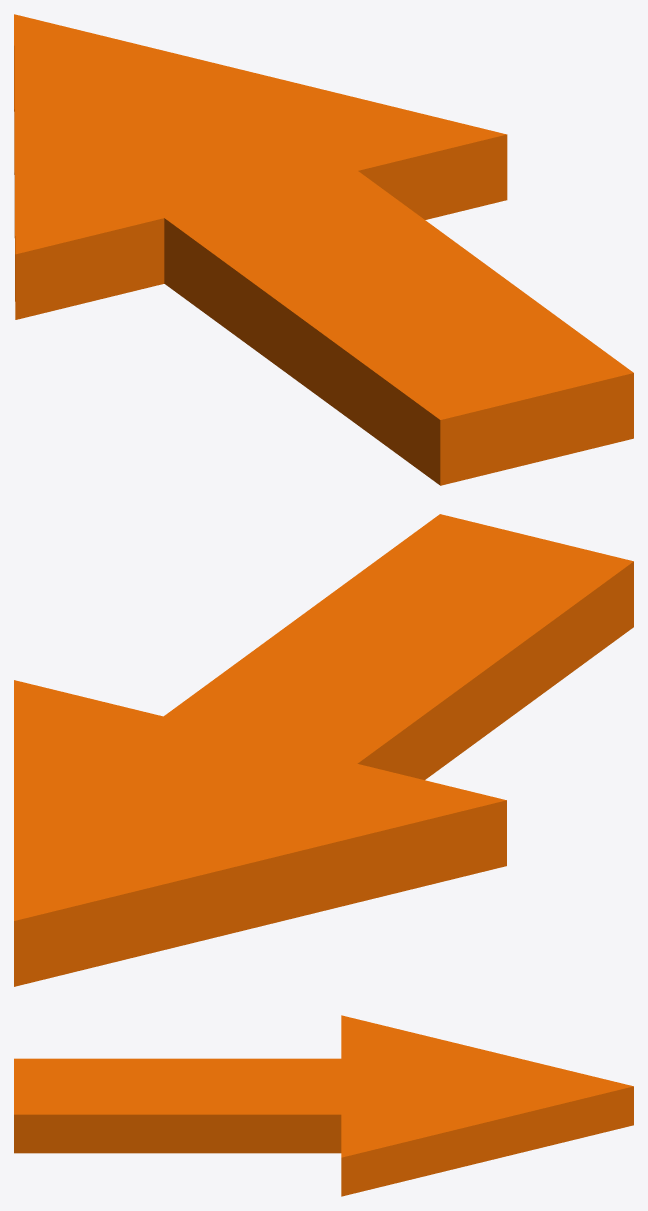
The picture shows the model from 3 angles, top to bottom: view 1: azimuth 30°, elevation 25°; view 2: azimuth 150°, elevation 25°; view 3: azimuth 270°, elevation 25°; orthographic projection. The views are drawn at different scales.
Parts seen in each view (by area): view 1: Rectangle001; view 2: Rectangle001; view 3: Rectangle001.
Part boxes in pixels (x1,y1,x2,y2): Rectangle001: (14, 14, 633, 485); Rectangle001: (14, 514, 633, 986); Rectangle001: (14, 1015, 633, 1196).
Size of the model in its own units: 46.25 by 5.9 by 85.11.
